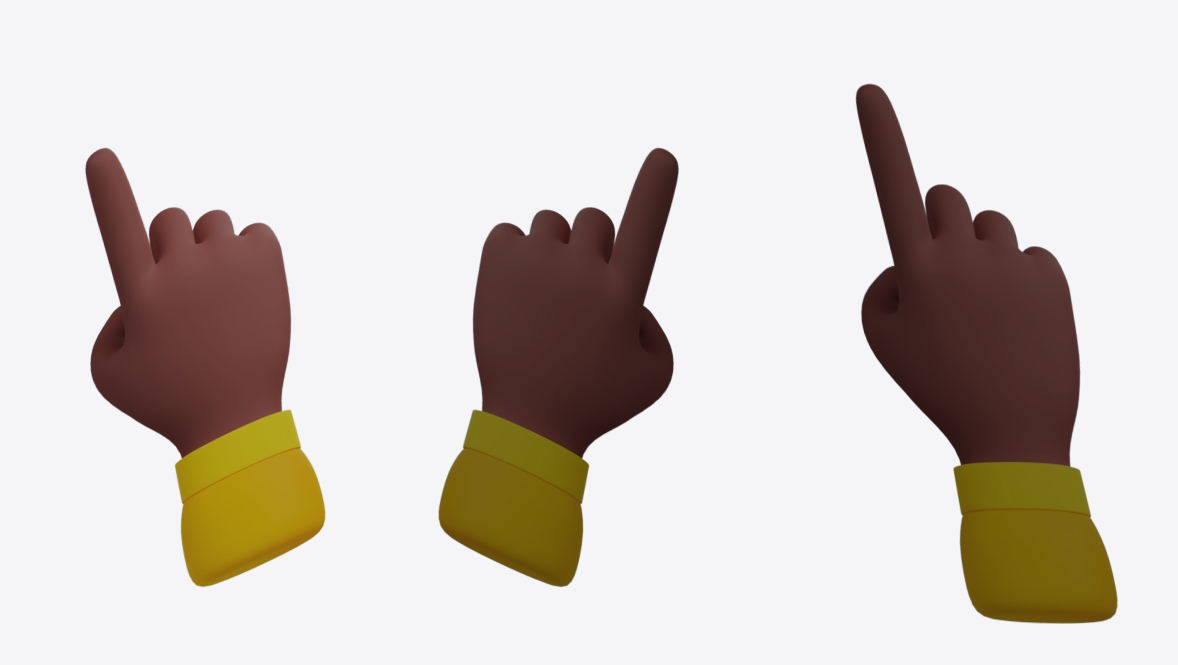
The model's file is cursor.glb.
The picture shows the model from 3 angles, left to right: view 1: azimuth 30°, elevation 25°; view 2: azimuth 150°, elevation 25°; view 3: azimuth 330°, elevation 25°; orthographic projection. The views are drawn at different scales.
Parts seen in each view (by area): view 1: cursor_compressed-removebg-preview; view 2: cursor_compressed-removebg-preview; view 3: cursor_compressed-removebg-preview.
Part boxes in pixels (bbox=[...]): cursor_compressed-removebg-preview: bbox=[85, 147, 325, 586]; cursor_compressed-removebg-preview: bbox=[438, 147, 678, 586]; cursor_compressed-removebg-preview: bbox=[855, 83, 1117, 623].
Bounding box in the file's own units: 0.6536 × 1.07 × 1.72e-07.
1 material, 1 textured.
